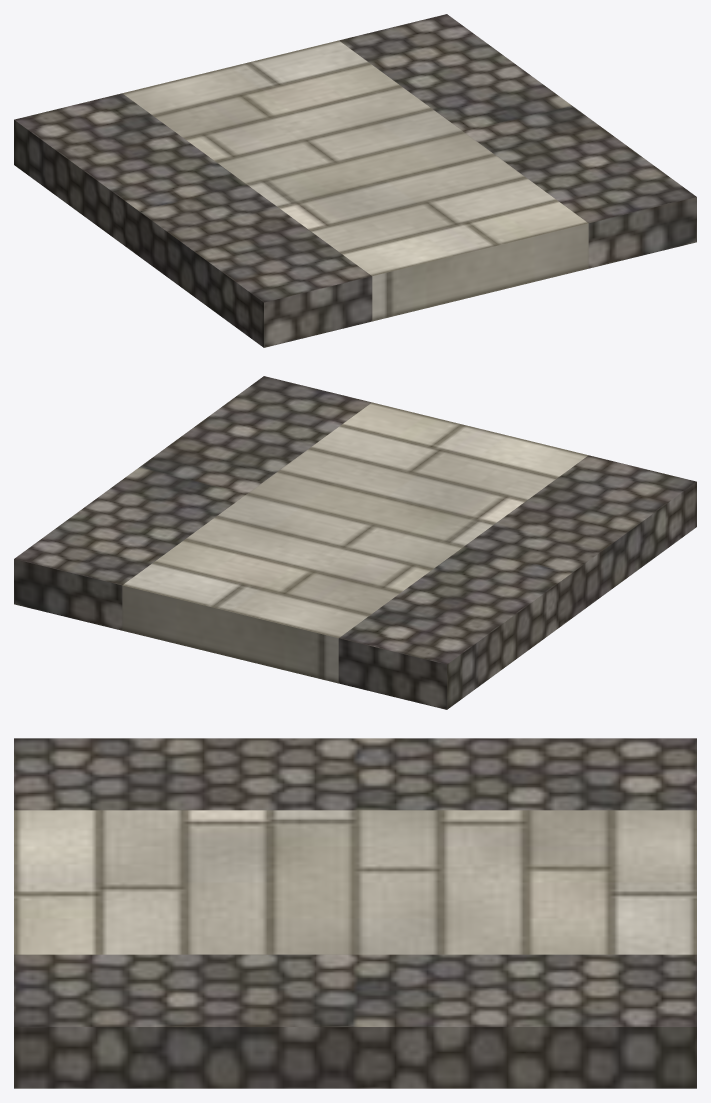
File: road-crossing.lod2.glb
The picture shows the model from 3 angles, top to bottom: view 1: azimuth 30°, elevation 25°; view 2: azimuth 150°, elevation 25°; view 3: azimuth 270°, elevation 25°; orthographic projection. The views are drawn at different scales.
Parts seen in each view (by area): view 1: RoadCrossing_cobble, RoadCrossing_pale; view 2: RoadCrossing_cobble, RoadCrossing_pale; view 3: RoadCrossing_cobble, RoadCrossing_pale.
Boxes of the visible parts, box(x1,y1,x2,y2) form: RoadCrossing_cobble: box(14, 14, 696, 347); RoadCrossing_pale: box(122, 40, 588, 321); RoadCrossing_cobble: box(14, 376, 696, 709); RoadCrossing_pale: box(122, 402, 588, 683); RoadCrossing_cobble: box(14, 738, 696, 1088); RoadCrossing_pale: box(14, 810, 696, 954).
Bounding box in the file's own units: 2 × 0.2 × 2.
2 materials, 2 textured.
